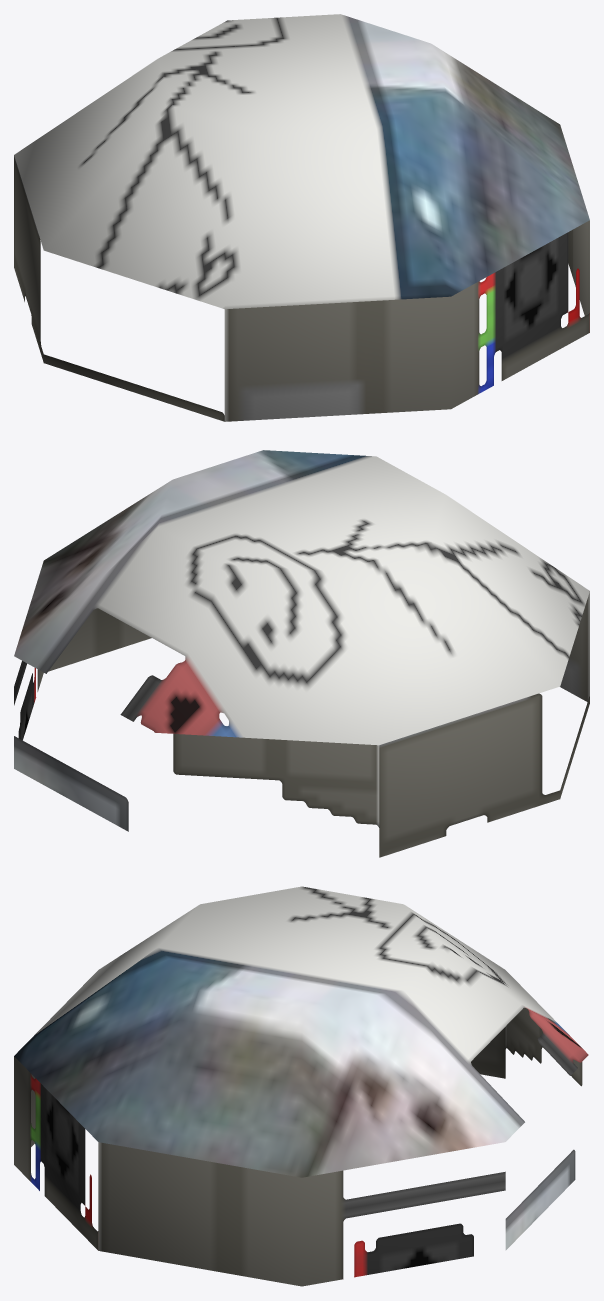
Rendered from crane_console_lamp2.obj.
3 renders of one model, top to bottom at view 1: azimuth 30°, elevation 25°; view 2: azimuth 150°, elevation 25°; view 3: azimuth 270°, elevation 25°, orthographic. The views are drawn at different scales.
Parts seen in each view (by area): view 1: Lamp2; view 2: Lamp2; view 3: Lamp2.
Boxes of the visible parts, x1,y1,x2,y2 form: Lamp2: (14,14,589,421); Lamp2: (14,450,589,857); Lamp2: (14,886,588,1286).
Size of the model in its own units: 0.15 by 0.0625 by 0.15.
